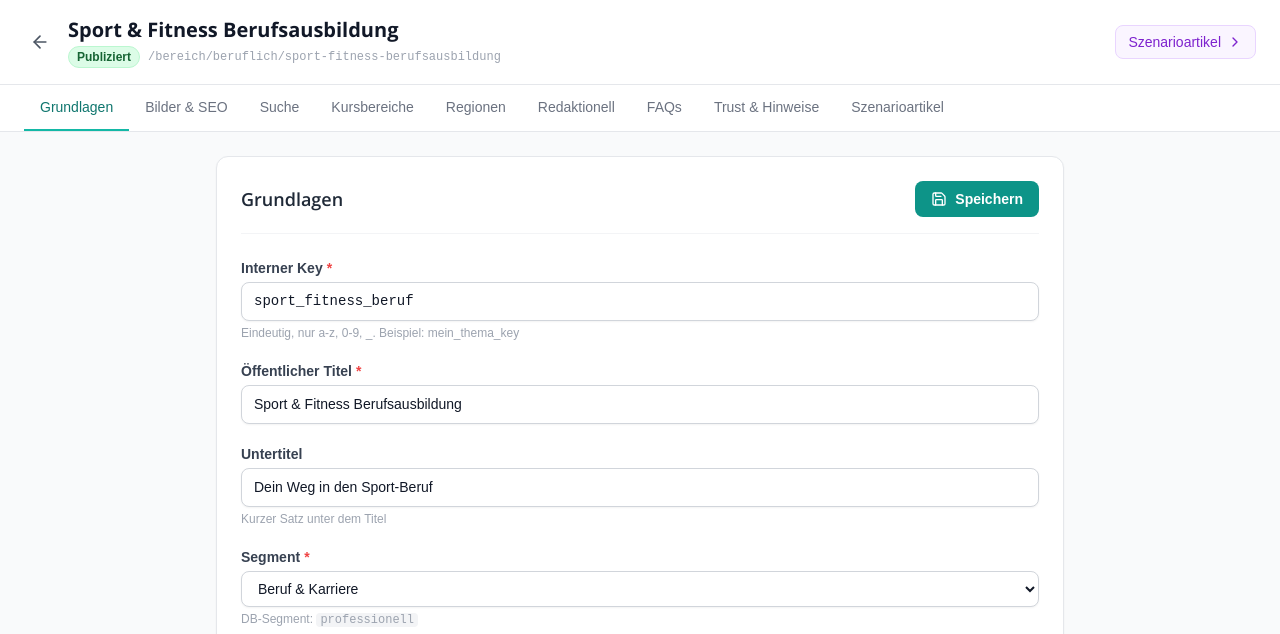
Test: Phase 8.7: Editorial List Textarea — Zeilenumbruch-Fix › Initialer Load / Reload › ein einzelner Eintrag wird ohne Zeilenumbruch angezeigt
The image size is (1280, 634).
Expected: the heading "Sport & Fitness Berufsausbildung" is shown, [68, 16, 398, 43]
Click the button "Redaktionell": (576, 108) [522, 85, 631, 131]
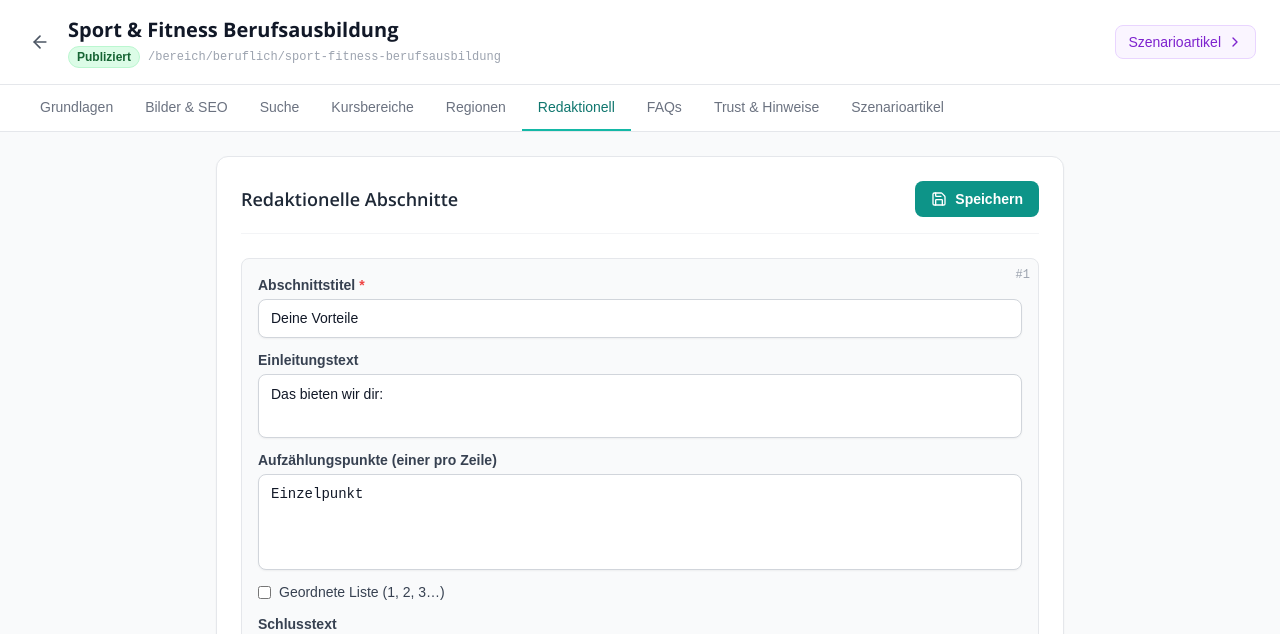
Expected: the text box below "Aufzählungspunkte (einer pro Zeile)" holds "Einzelpunkt", [258, 474, 1022, 570]
